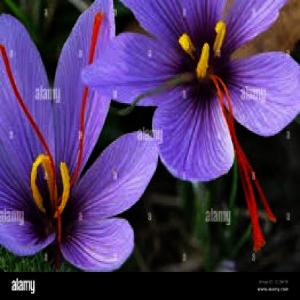Saffron: (0, 3, 161, 272), (87, 0, 300, 180)
